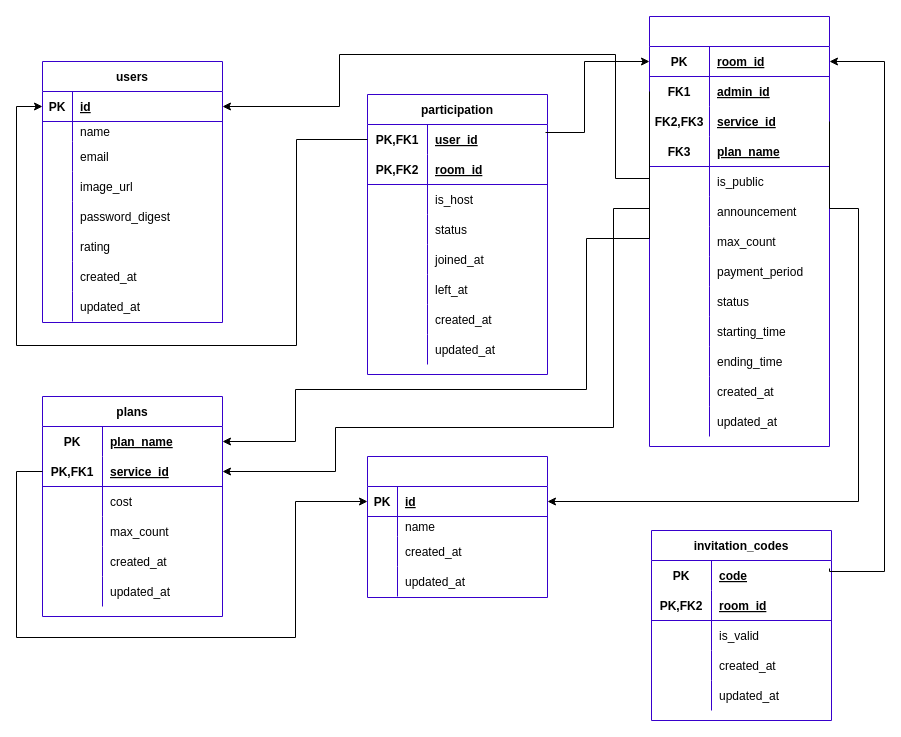
The diagram is 901 pixels wide and 737 high, and some of its shapes have lost their labels. Each missing label, with the box of its shape:
rooms: (648, 16, 830, 446)
service_providers: (366, 456, 548, 598)
